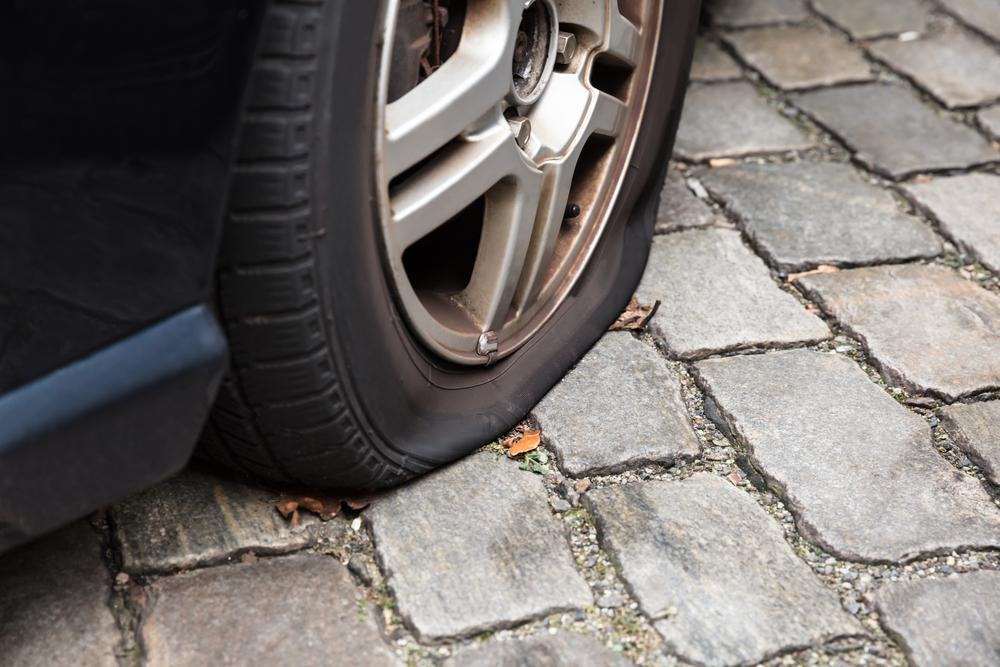tire flat: (204, 0, 703, 493)
